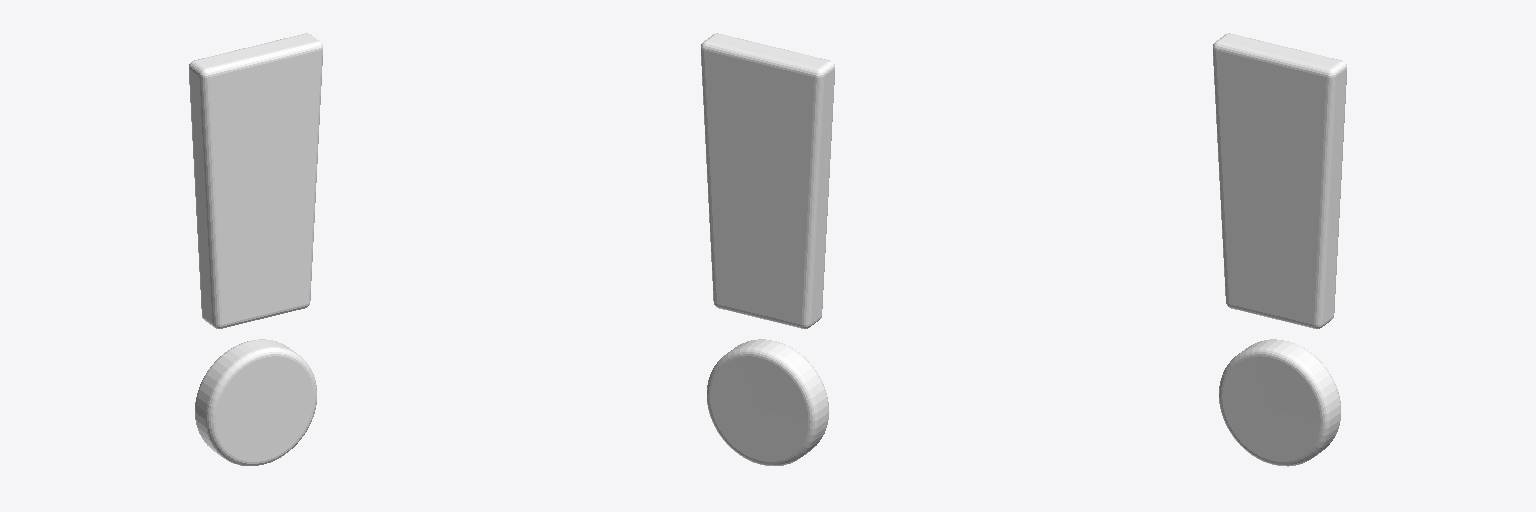
Rendered from Exc.obj.
3 renders of one model, left to right at view 1: azimuth 30°, elevation 25°; view 2: azimuth 150°, elevation 25°; view 3: azimuth 330°, elevation 25°, orthographic.
Parts seen in each view (by area): view 1: node_id344_mesh_id345; view 2: node_id344_mesh_id345; view 3: node_id344_mesh_id345.
Boxes of the visible parts, box(x1,y1,x2,y2) form: node_id344_mesh_id345: box(189, 33, 322, 465); node_id344_mesh_id345: box(701, 33, 834, 465); node_id344_mesh_id345: box(1213, 33, 1346, 466).
Bounding box in the file's own units: 0.1609 × 0.512 × 0.0389.